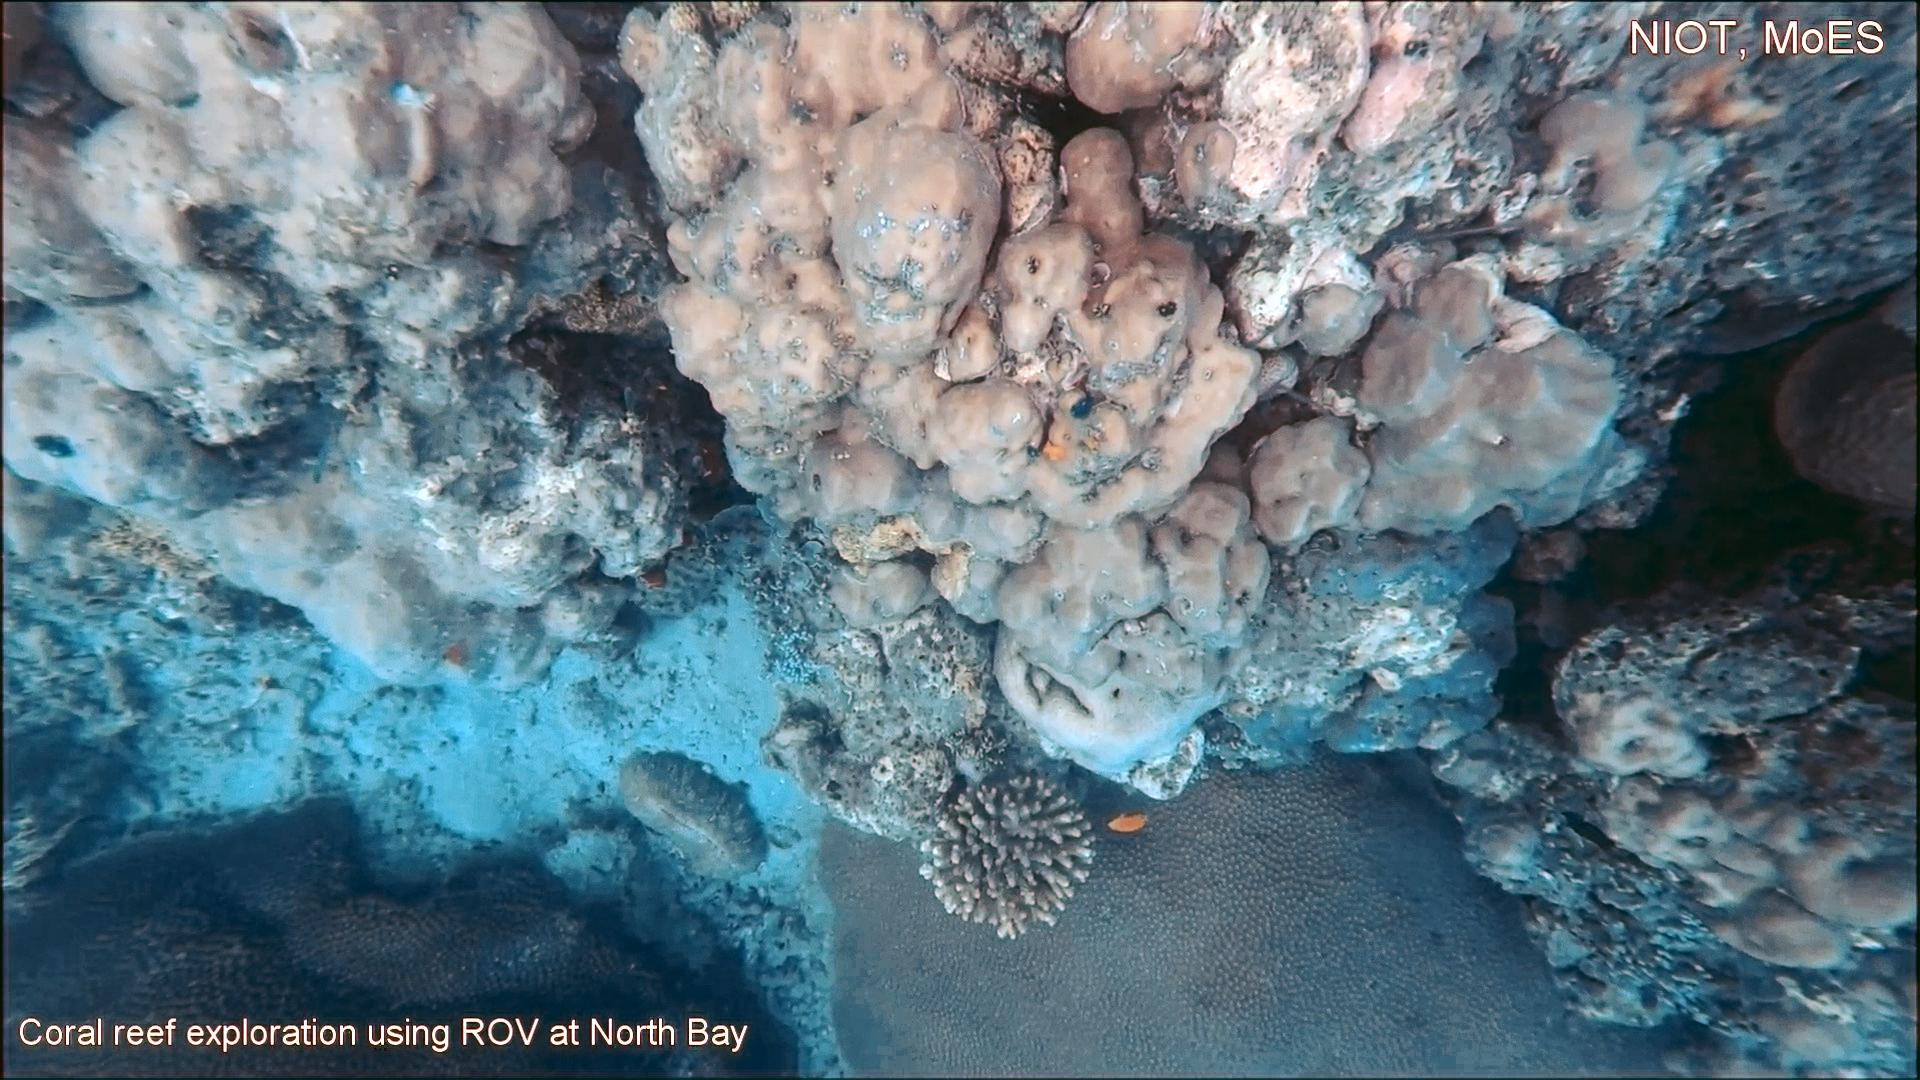Meandrina meandrites: (1762, 270, 1920, 535)
